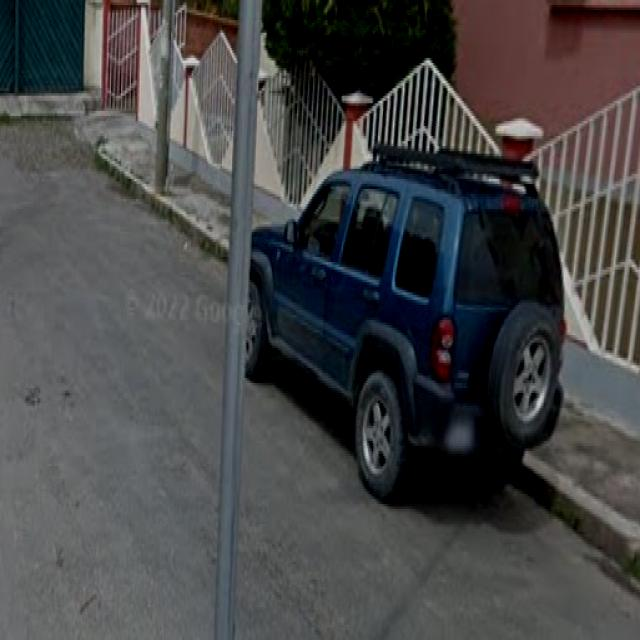car: (253, 90, 571, 505)
